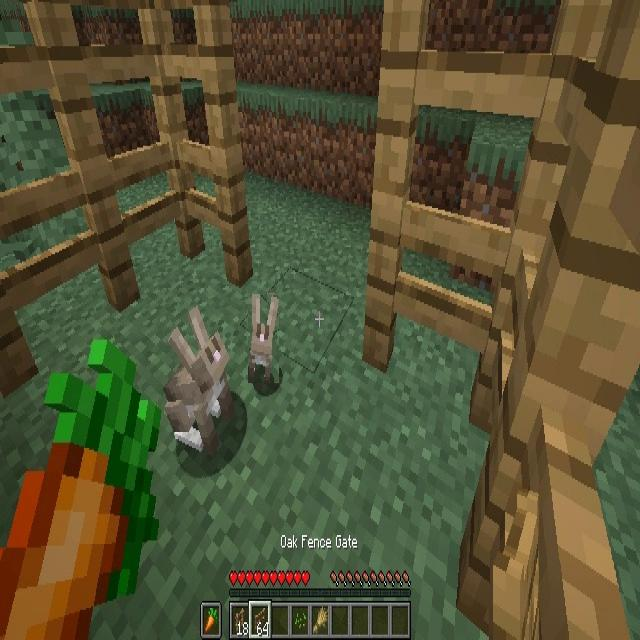duck: (164, 307, 231, 453), (248, 294, 279, 383)
